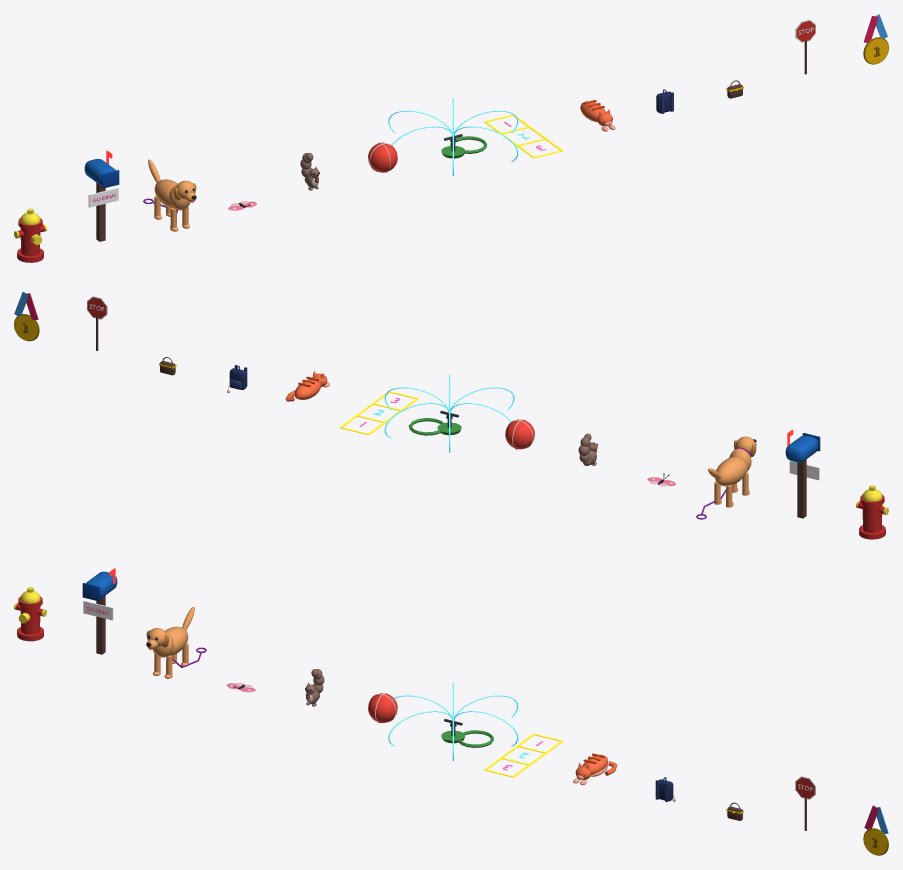
The model's file is dina_props.glb.
3 views of the same model, one above another, from view 1: azimuth 30°, elevation 25°; view 2: azimuth 150°, elevation 25°; view 3: azimuth 330°, elevation 25° (orthographic).
Visible parts, largest first — view 1: Mailbox_mesh, Dog_mesh, Hydrant_mesh, Medal_mesh, SprinklerHead, Kickball_mesh, Cat_mesh, Hopscotch_mesh; view 2: Dog_mesh, Mailbox_mesh, Hydrant_mesh, Medal_mesh, SprinklerHead, Kickball_mesh, Cat_mesh, Hopscotch_mesh, Sprinkler_base; view 3: Dog_mesh, Mailbox_mesh, Hydrant_mesh, Medal_mesh, SprinklerHead, Cat_mesh, Kickball_mesh, Hopscotch_mesh.
Boxes of the visible parts, bbox=[...] form: Mailbox_mesh: bbox=[84, 150, 119, 241]; Dog_mesh: bbox=[143, 179, 196, 231]; Hydrant_mesh: bbox=[14, 208, 46, 262]; Medal_mesh: bbox=[863, 14, 888, 64]; SprinklerHead: bbox=[388, 98, 518, 176]; Kickball_mesh: bbox=[368, 142, 397, 172]; Cat_mesh: bbox=[580, 99, 615, 131]; Hopscotch_mesh: bbox=[484, 114, 563, 158]; Dog_mesh: bbox=[696, 436, 756, 519]; Mailbox_mesh: bbox=[785, 430, 820, 518]; Hydrant_mesh: bbox=[856, 485, 888, 539]; Medal_mesh: bbox=[14, 291, 39, 341]; SprinklerHead: bbox=[384, 375, 514, 452]; Kickball_mesh: bbox=[505, 419, 534, 449]; Cat_mesh: bbox=[285, 371, 329, 401]; Hopscotch_mesh: bbox=[339, 391, 418, 434]; Sprinkler_base: bbox=[409, 418, 461, 435]; Dog_mesh: bbox=[146, 626, 206, 678]; Mailbox_mesh: bbox=[82, 568, 117, 654]; Hydrant_mesh: bbox=[14, 587, 46, 641]; Medal_mesh: bbox=[863, 805, 888, 855]; SprinklerHead: bbox=[388, 683, 518, 760]; Cat_mesh: bbox=[573, 753, 617, 785]; Kickball_mesh: bbox=[368, 693, 397, 723]; Hopscotch_mesh: bbox=[484, 734, 563, 777].
Bounding box in the file's own units: 14.87 × 1.58 × 1.92.
